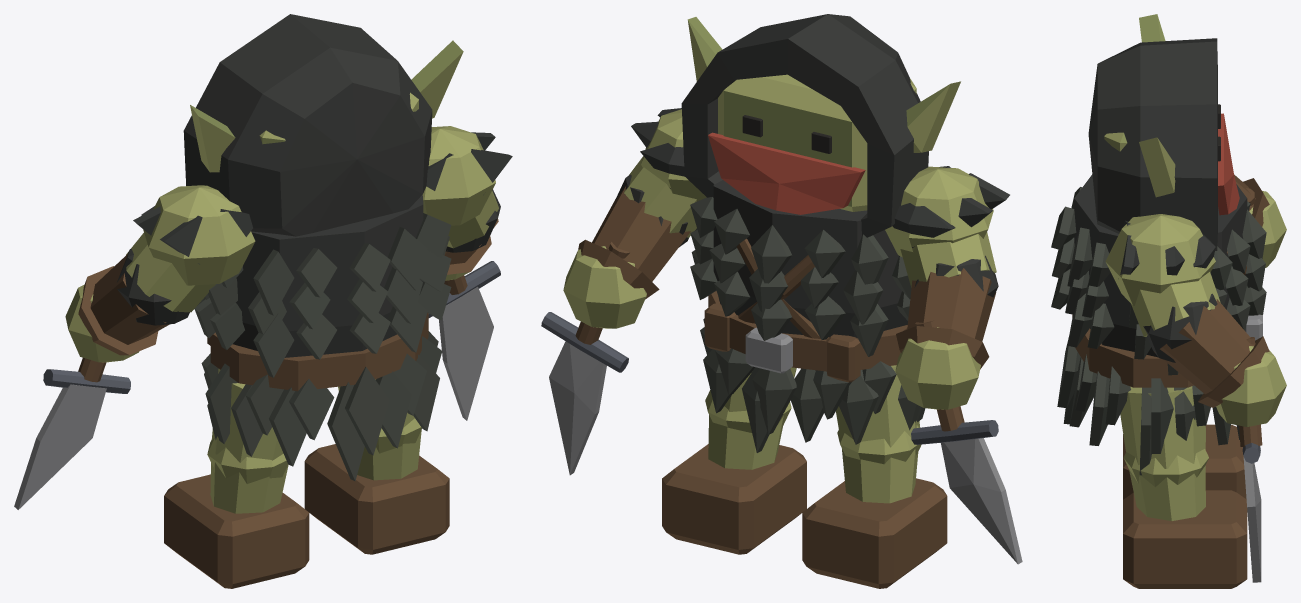
File: host_38.glb
3 renders of one model, left to right at view 1: azimuth 30°, elevation 25°; view 2: azimuth 150°, elevation 25°; view 3: azimuth 270°, elevation 25°, orthographic. The views are drawn at different scales.
Visible parts, largest first — view 1: V6 source fitted domed cloth hood, Grounded boot L, Grounded boot R, Tailored continuous bodice, Connected shoulder L, Continuous leather waist belt, V6 source curved forged dagger blade, Connected shoulder R, V6 source curved forged dagger blade.001, Forearm L, Upper arm L, Lower leg L (+40 smaller); view 2: V6 source fitted domed cloth hood, Grounded boot L, Grounded boot R, Observed face, Tailored continuous bodice, V6 source fitted lower cloth face mask, V6 source curved forged dagger blade, Grasping hand L, V6 source curved forged dagger blade.001, Connected shoulder L, Grasping hand R, Forearm L (+46 smaller); view 3: V6 source fitted domed cloth hood, Grounded boot R, Connected shoulder R, Forearm R, Tailored continuous bodice, Grasping hand R, Upper leg R, Continuous leather waist belt, Lower leg R, Grounded boot L, Upper arm R, Elbow contacting articulated joint R (+38 smaller).
Boxes of the visible parts, <box> form: V6 source fitted domed cloth hood: <box>183,14,432,236</box>; Grounded boot L: <box>164,474,309,588</box>; Grounded boot R: <box>304,444,449,554</box>; Tailored continuous bodice: <box>233,195,423,357</box>; Connected shoulder L: <box>143,185,255,285</box>; Continuous leather waist belt: <box>210,312,428,391</box>; V6 source curved forged dagger blade: <box>14,384,106,509</box>; Connected shoulder R: <box>422,126,495,225</box>; V6 source curved forged dagger blade.001: <box>439,287,493,420</box>; Forearm L: <box>90,254,169,344</box>; Upper arm L: <box>126,233,215,312</box>; Lower leg L: <box>210,462,288,513</box>; V6 source fitted domed cloth hood: <box>681,14,928,237</box>; Grounded boot L: <box>802,478,947,588</box>; Grounded boot R: <box>662,444,806,554</box>; Observed face: <box>718,74,916,211</box>; Tailored continuous bodice: <box>713,180,907,338</box>; V6 source fitted lower cloth face mask: <box>708,132,865,214</box>; V6 source curved forged dagger blade: <box>941,438,1022,564</box>; Grasping hand L: <box>895,327,980,409</box>; V6 source curved forged dagger blade.001: <box>549,341,606,475</box>; Connected shoulder L: <box>885,166,993,257</box>; Grasping hand R: <box>563,246,646,328</box>; Forearm L: <box>907,268,996,341</box>; V6 source fitted domed cloth hood: <box>1088,38,1217,250</box>; Grounded boot R: <box>1123,490,1247,588</box>; Connected shoulder R: <box>1105,214,1215,305</box>; Forearm R: <box>1154,299,1255,394</box>; Tailored continuous bodice: <box>1074,174,1247,357</box>; Grasping hand R: <box>1216,346,1286,426</box>; Upper leg R: <box>1120,386,1205,468</box>; Continuous leather waist belt: <box>1072,314,1193,387</box>; Lower leg R: <box>1129,465,1205,521</box>; Grounded boot L: <box>1123,424,1246,499</box>; Upper arm R: <box>1131,272,1220,336</box>; Elbow contacting articulated joint R: <box>1143,293,1217,362</box>.
Size of the model in its own units: 1.42 by 1.46 by 0.6276.
